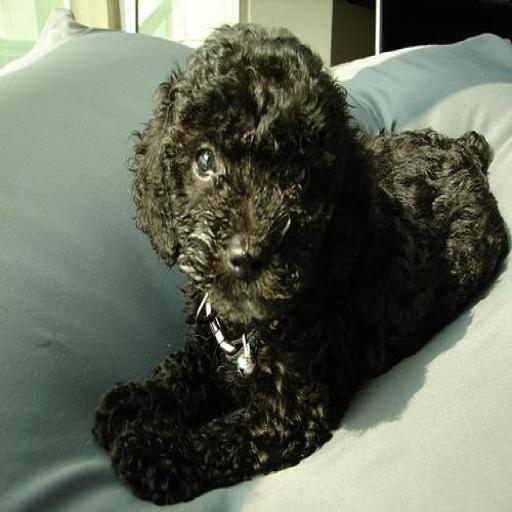dog_face: (135, 27, 359, 320)
